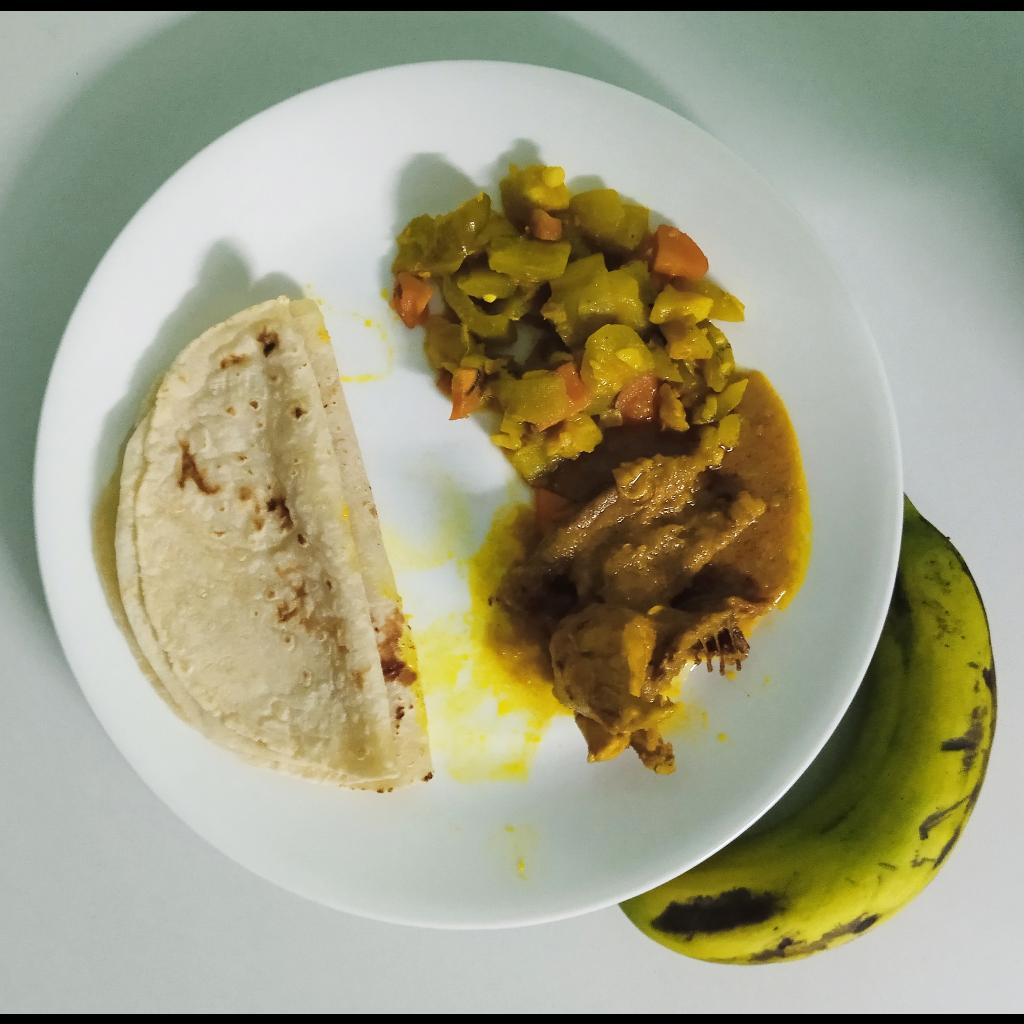banana: (622, 493, 998, 968)
chicken: (533, 414, 787, 777)
ruti: (94, 292, 431, 792)
vegetable: (394, 164, 749, 479)
